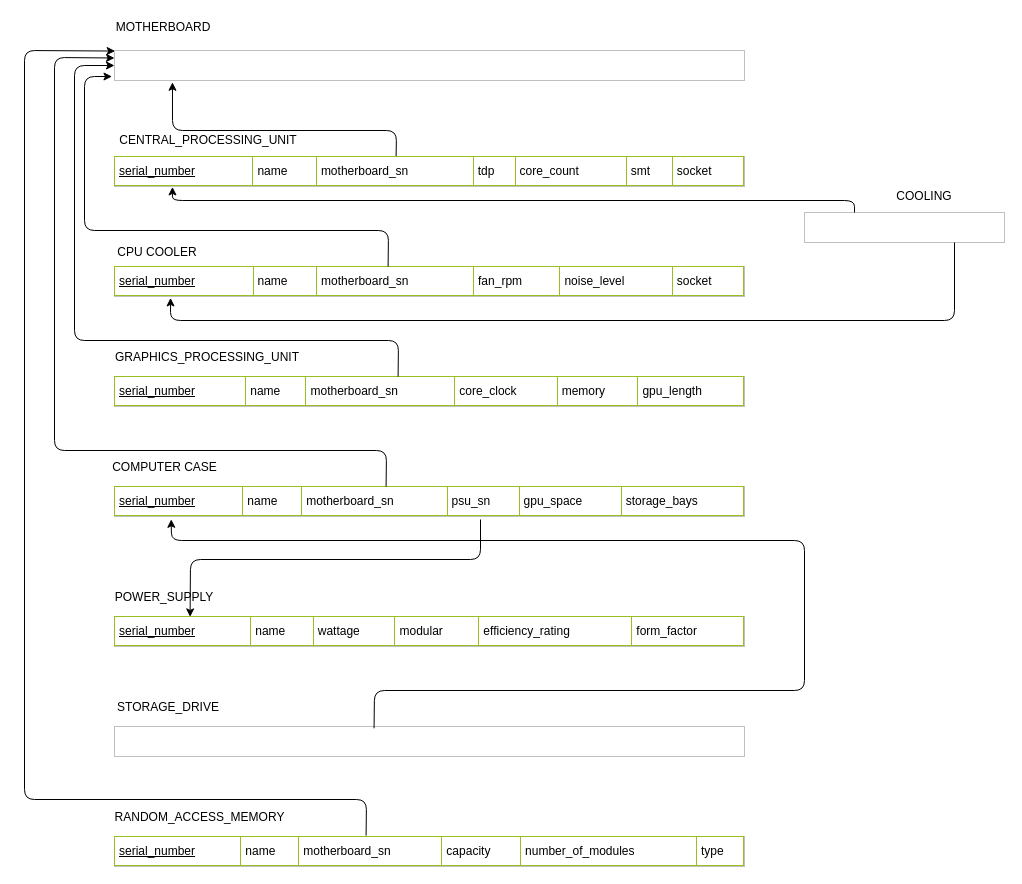
Some shapes in this 1022 by 884 pixel diagram are drawn without their labels. The shapes that lost their labels are listed below. From the top down, each one's centre as x and y in pixels, then its label:
point (429, 65): serial_number name ram_slots ram_type form_factor socket
point (904, 227): cpu_sn cooler_sn
point (429, 741): serial_number name case_sn capacity interface form_factor
